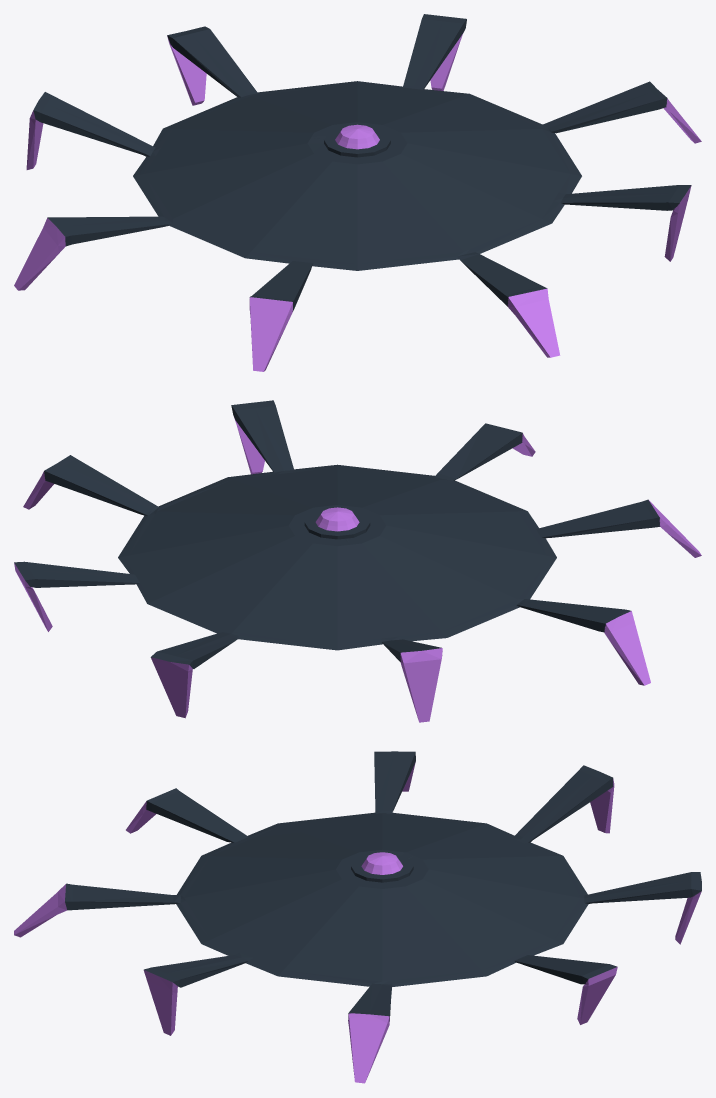
File: Spider_Walk_000003.obj
3 views of the same model, one above another, from view 1: azimuth 30°, elevation 25°; view 2: azimuth 150°, elevation 25°; view 3: azimuth 270°, elevation 25° (orthographic). The views are drawn at different scales.
Visible parts, largest first — view 1: Circle_Circle.001; view 2: Circle_Circle.001; view 3: Circle_Circle.001.
Boxes of the visible parts, x1,y1,x2,y2 form: Circle_Circle.001: (14, 14, 701, 371); Circle_Circle.001: (14, 400, 701, 722); Circle_Circle.001: (14, 751, 701, 1083).
Bounding box in the file's own units: 3.4 × 0.4651 × 3.29.
